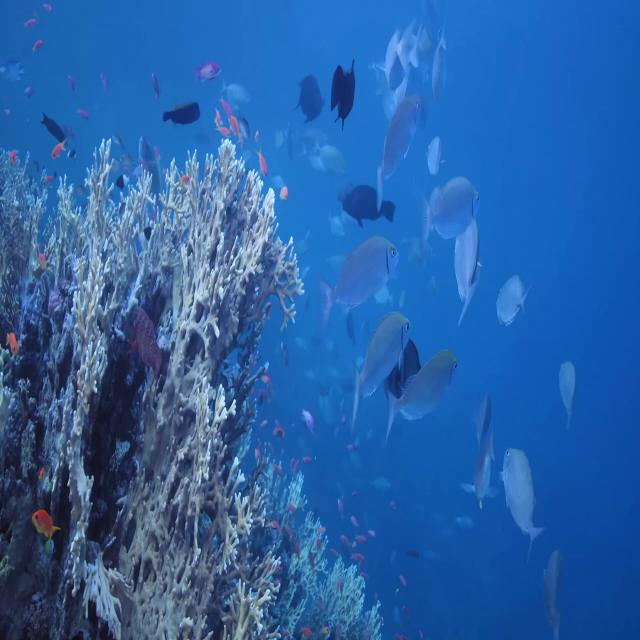fish: (382, 346, 462, 456), (321, 233, 402, 336), (343, 310, 412, 422), (502, 439, 544, 557), (414, 175, 480, 241), (452, 215, 488, 332), (338, 177, 401, 231), (498, 272, 534, 330), (329, 59, 359, 126), (560, 354, 576, 434), (29, 504, 62, 538)
